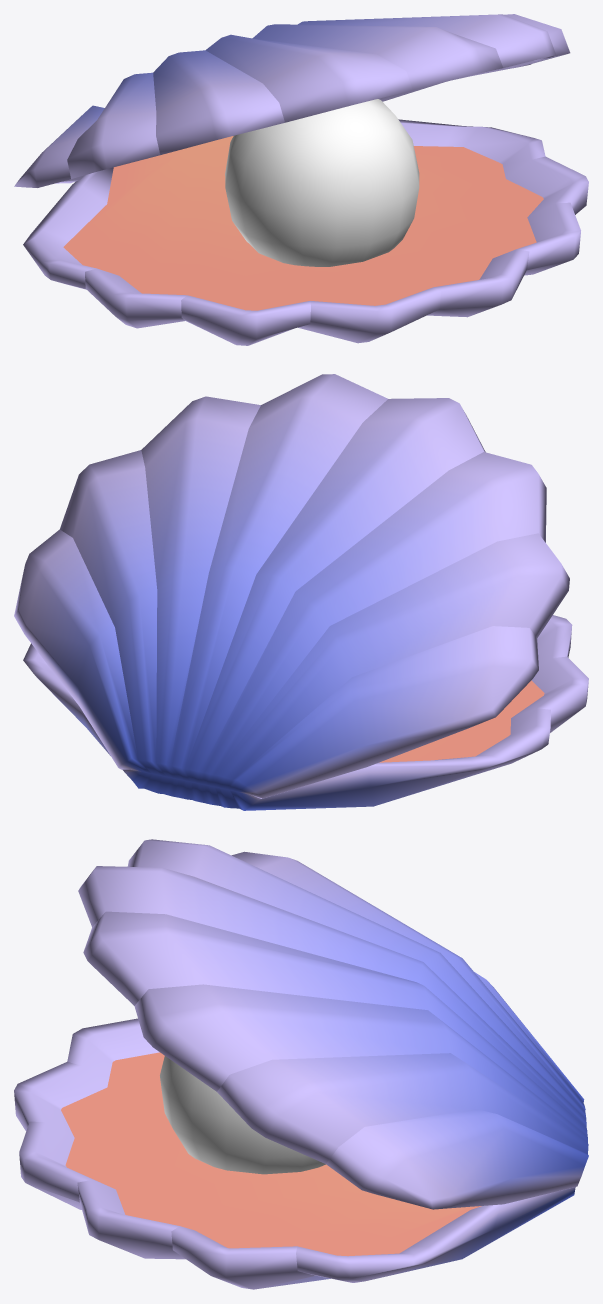
Rendered from Sea_Shell_02.fbx.
3 renders of one model, top to bottom at view 1: azimuth 30°, elevation 25°; view 2: azimuth 150°, elevation 25°; view 3: azimuth 270°, elevation 25°, orthographic. The views are drawn at different scales.
Parts seen in each view (by area): view 1: Sea_Shell_02; view 2: Sea_Shell_02; view 3: Sea_Shell_02.
Boxes of the visible parts, x1,y1,x2,y2 form: Sea_Shell_02: (14,14,588,345); Sea_Shell_02: (14,374,588,810); Sea_Shell_02: (14,839,588,1289).
Size of the model in its own units: 101 by 58.95 by 92.37.
